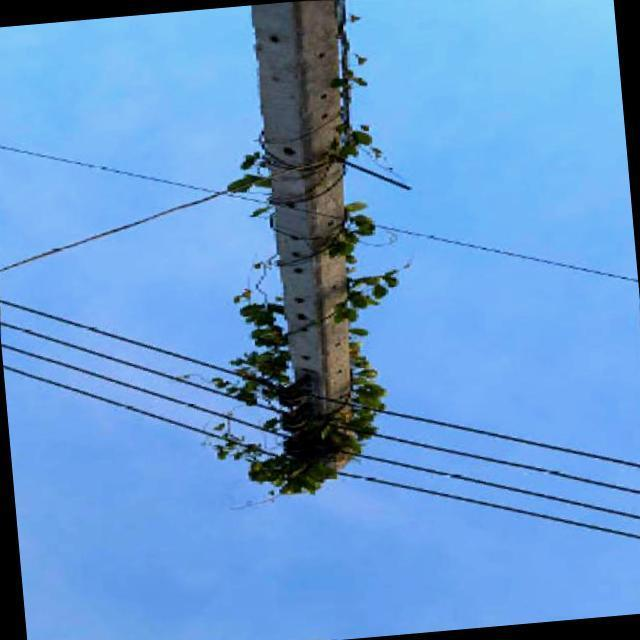critical vegetation: (153, 1, 460, 516)
